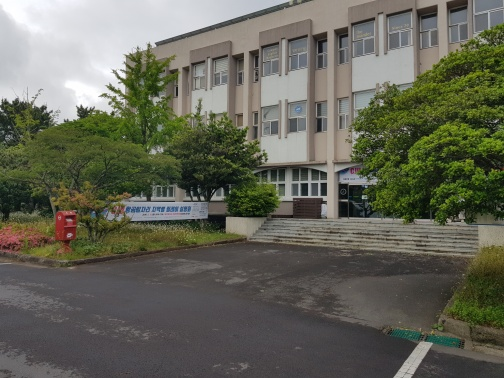Main Building of University: (118, 12, 503, 247)
